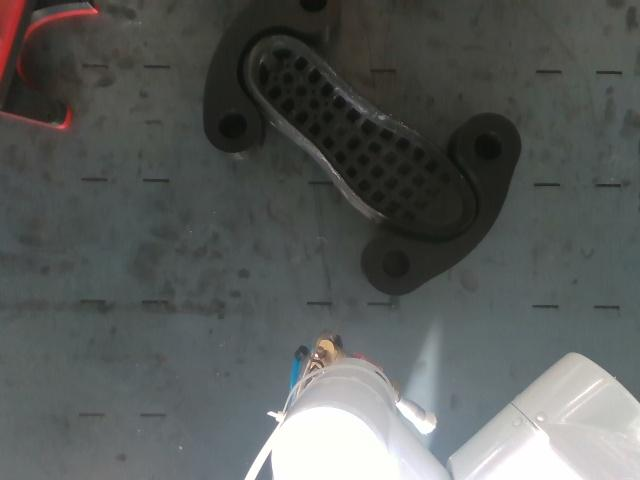shoes: (250, 35, 474, 236)
